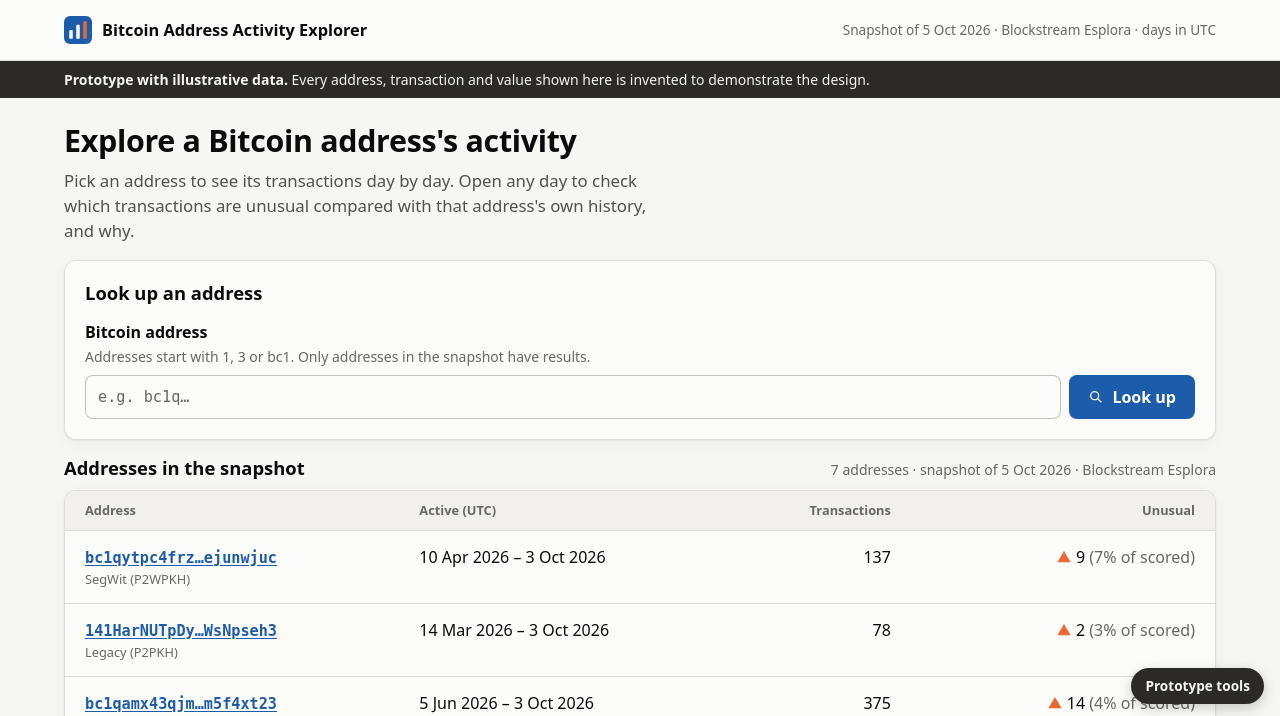
Scenario: FR-05 states › invalid: an empty submit asks for an address
Click the button "Look up": [1132, 397] box [1069,375,1195,419]
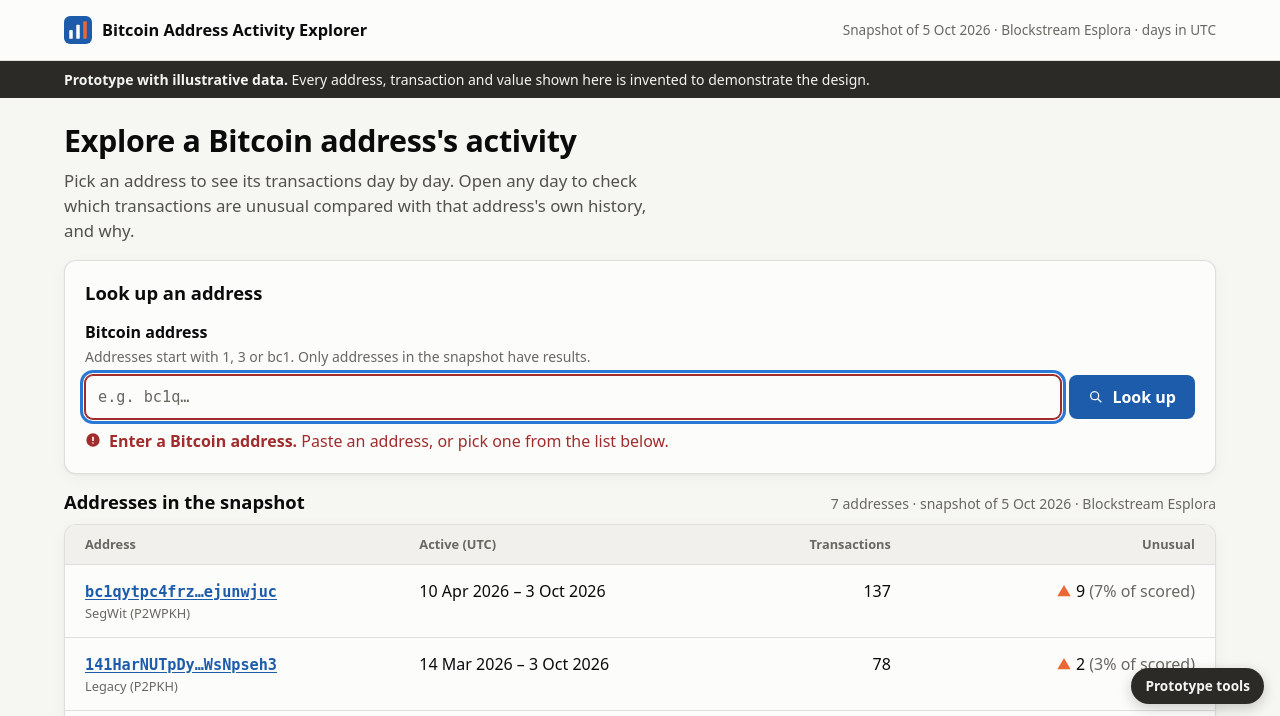
Result: the message shows "Enter a Bitcoin address." at [109,430,297,452]
